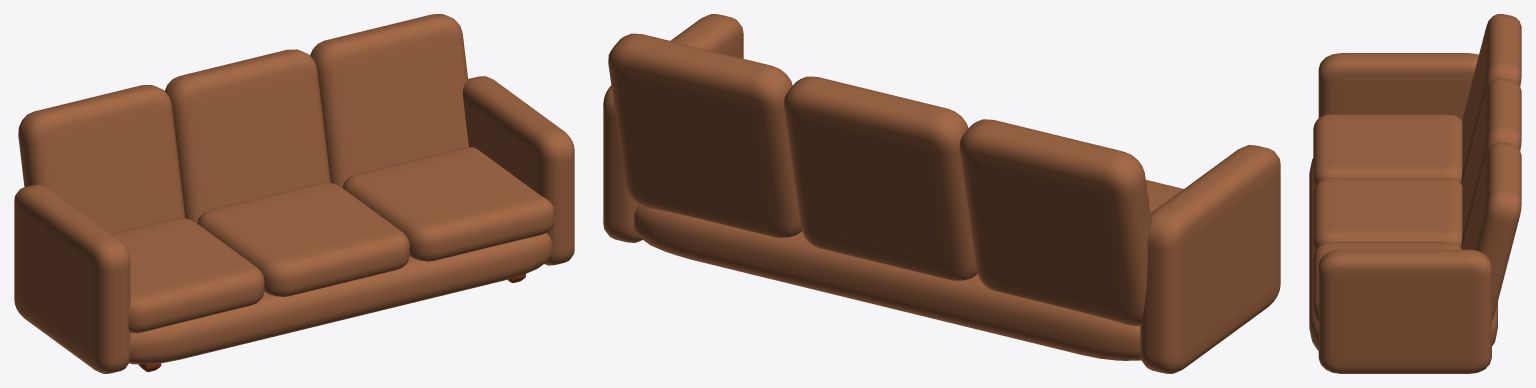
The model's file is couch_3d_icon.glb.
The picture shows the model from 3 angles, left to right: view 1: azimuth 30°, elevation 25°; view 2: azimuth 150°, elevation 25°; view 3: azimuth 270°, elevation 25°; orthographic projection. The views are drawn at different scales.
Parts seen in each view (by area): view 1: Cube.004, Cube.006, Cube.005, Cube.003, Cube.001, Cube.007, Cube, Cube.002, Cube.008; view 2: Cube.005, Cube.006, Cube.004, Cube.003, Cube.001, Cube.008, Cube.002; view 3: Cube.008, Cube.007, Cube.002, Cube.003, Cube.006, Cube.004, Cube.005, Cube, Cube.001.
Boxes of the visible parts, left/top/right/bottom form: Cube.004: left=165, top=49, right=330, bottom=222; Cube.006: left=310, top=14, right=468, bottom=187; Cube.005: left=18, top=85, right=185, bottom=233; Cube.003: left=14, top=184, right=130, bottom=373; Cube.001: left=129, top=233, right=552, bottom=364; Cube.007: left=197, top=182, right=409, bottom=296; Cube: left=342, top=147, right=554, bottom=261; Cube.002: left=112, top=218, right=264, bottom=333; Cube.008: left=462, top=76, right=574, bottom=265; Cube.005: left=959, top=119, right=1151, bottom=325; Cube.006: left=608, top=33, right=801, bottom=237; Cube.004: left=784, top=76, right=977, bottom=280; Cube.003: left=1140, top=145, right=1280, bottom=373; Cube.001: left=634, top=205, right=1141, bottom=360; Cube.008: left=603, top=14, right=743, bottom=242; Cube.002: left=1146, top=180, right=1183, bottom=213; Cube.008: left=1318, top=249, right=1491, bottom=373; Cube.007: left=1313, top=178, right=1462, bottom=252; Cube.002: left=1313, top=114, right=1462, bottom=188; Cube.003: left=1318, top=53, right=1478, bottom=119; Cube.006: left=1462, top=142, right=1521, bottom=321; Cube.004: left=1461, top=78, right=1521, bottom=248; Cube.005: left=1461, top=14, right=1521, bottom=184; Cube: left=1313, top=242, right=1461, bottom=324; Cube.001: left=1309, top=158, right=1497, bottom=350.
Size of the model in its own units: 6.56 by 2.55 by 2.79.
